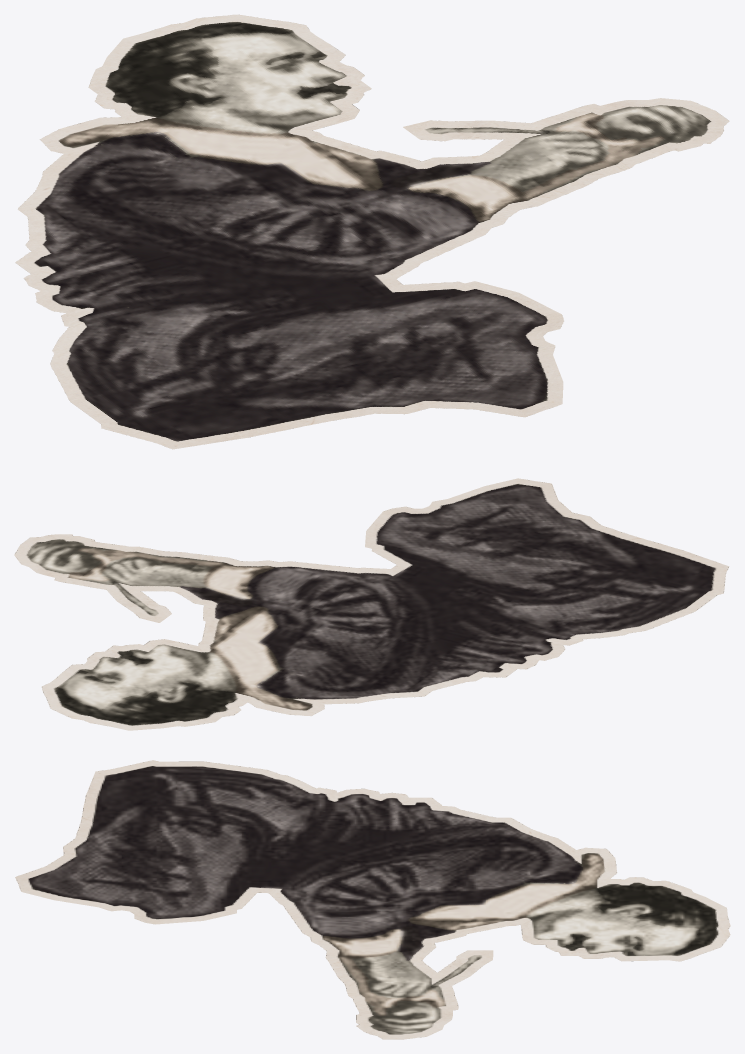
The model's file is john.fbx.
3 views of the same model, one above another, from view 1: azimuth 30°, elevation 25°; view 2: azimuth 150°, elevation 25°; view 3: azimuth 270°, elevation 25° (orthographic). The views are drawn at different scales.
Parts seen in each view (by area): view 1: BézierCurve; view 2: BézierCurve; view 3: BézierCurve.
Boxes of the visible parts, x1=… form: BézierCurve: x1=15, y1=14, x2=729, y2=449; BézierCurve: x1=14, y1=478, x2=729, y2=730; BézierCurve: x1=15, y1=760, x2=730, y2=1039.
Bounding box in the file's own units: 463 × 8.14e-05 × 500.
